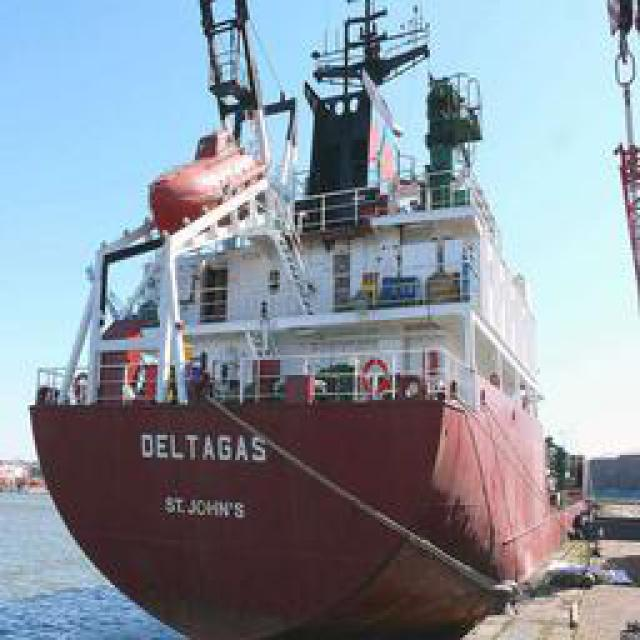Ship: (32, 1, 600, 639)
